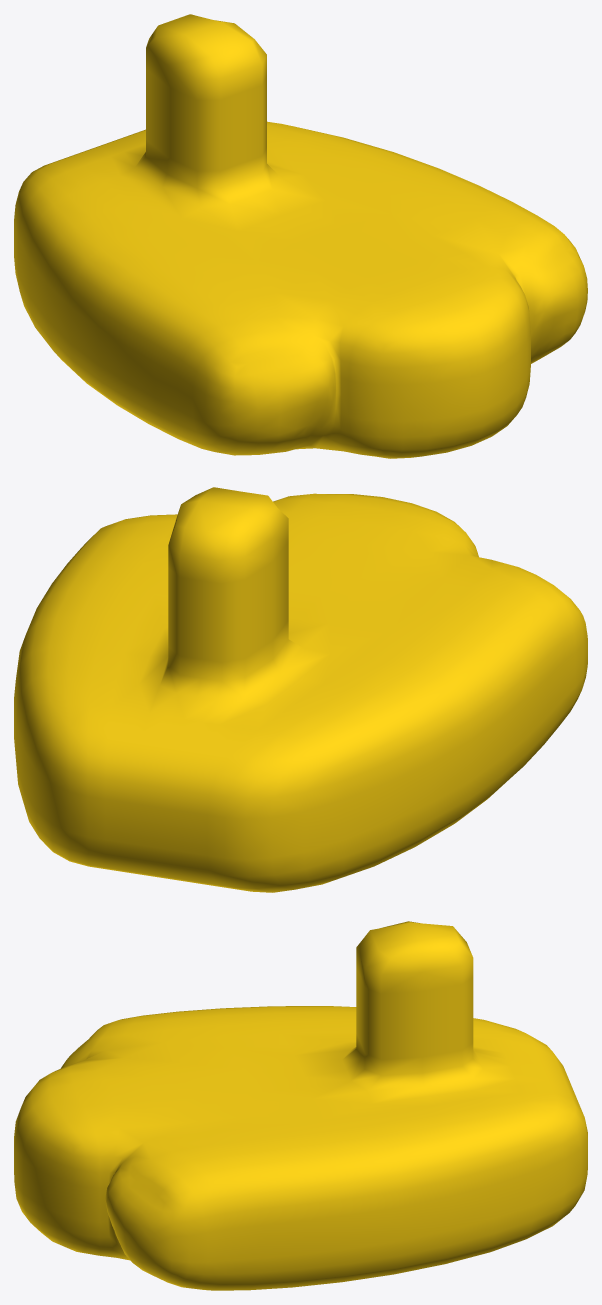
Rendered from pie_i.obj.
3 renders of one model, top to bottom at view 1: azimuth 30°, elevation 25°; view 2: azimuth 150°, elevation 25°; view 3: azimuth 270°, elevation 25°, orthographic. The views are drawn at different scales.
Parts seen in each view (by area): view 1: lfoot; view 2: lfoot; view 3: lfoot.
Part boxes in pixels (x1,y1,x2,y2): lfoot: [14, 14, 587, 458]; lfoot: [14, 487, 587, 892]; lfoot: [14, 921, 587, 1290].
Bounding box in the file's own units: 4.61 × 3.03 × 5.79.
